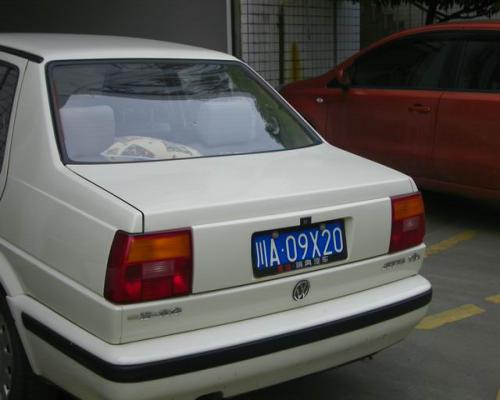Carplate: (248, 218, 354, 278)
